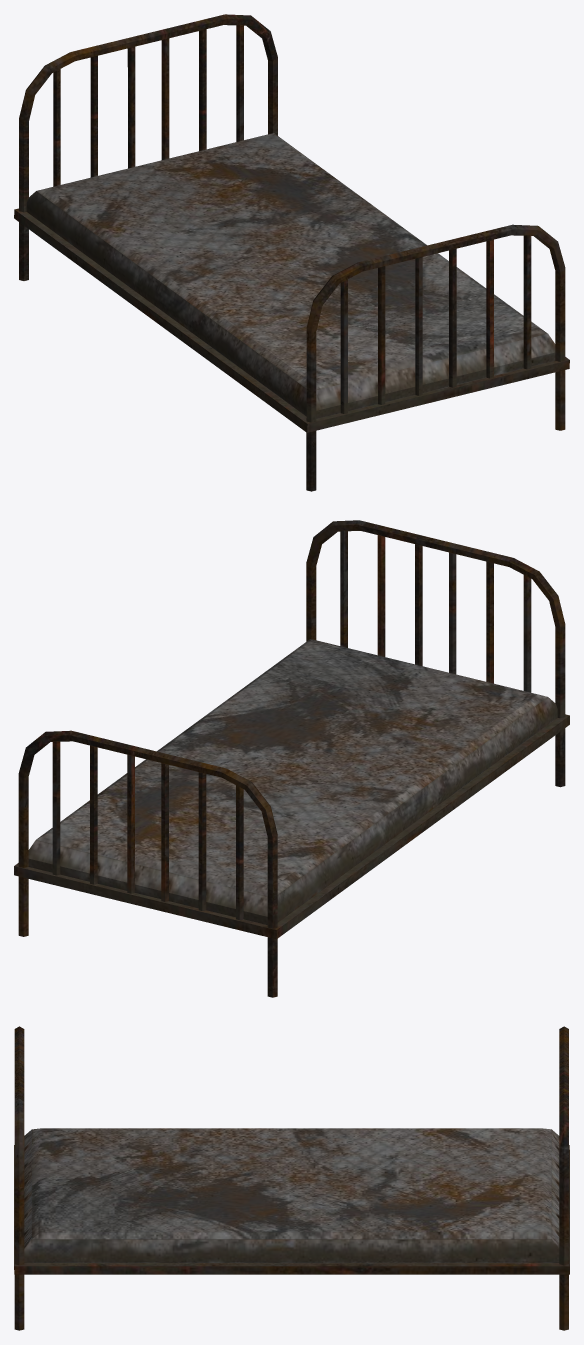
The model's file is BLDP1_T_bed01.fbx.
The picture shows the model from 3 angles, top to bottom: view 1: azimuth 30°, elevation 25°; view 2: azimuth 150°, elevation 25°; view 3: azimuth 270°, elevation 25°; orthographic projection. The views are drawn at different scales.
Visible parts, largest first — view 1: BLDP1_T_bed01; view 2: BLDP1_T_bed01; view 3: BLDP1_T_bed01.
Boxes of the visible parts, x1=… form: BLDP1_T_bed01: x1=14, y1=14, x2=569, y2=491; BLDP1_T_bed01: x1=14, y1=520, x2=569, y2=997; BLDP1_T_bed01: x1=14, y1=1026, x2=569, y2=1330.
Size of the model in its own units: 106 by 82.7 by 204.
